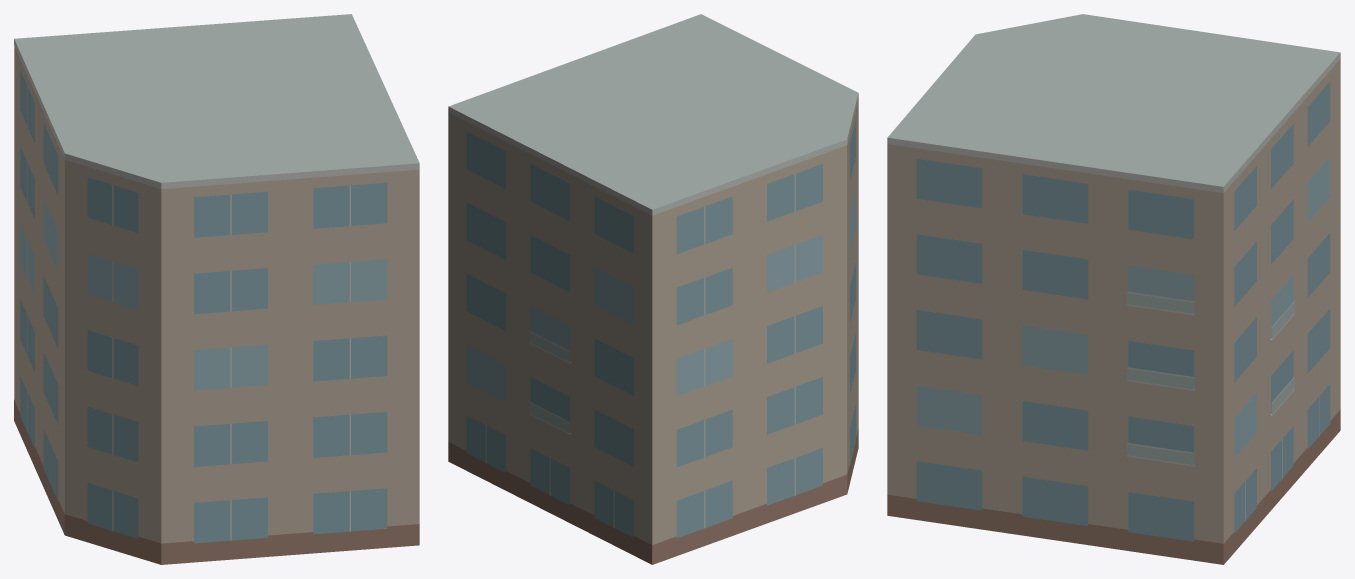
File: survey-upis-32528064.glb
3 renders of one model, left to right at view 1: azimuth 30°, elevation 25°; view 2: azimuth 150°, elevation 25°; view 3: azimuth 270°, elevation 25°, orthographic. The views are drawn at different scales.
Parts seen in each view (by area): view 1: survey-upis-32528064.tmp; view 2: survey-upis-32528064.tmp; view 3: survey-upis-32528064.tmp.
Part boxes in pixels (left/top/right/bottom): survey-upis-32528064.tmp: left=14, top=14, right=419, bottom=564; survey-upis-32528064.tmp: left=448, top=14, right=858, bottom=564; survey-upis-32528064.tmp: left=887, top=14, right=1340, bottom=564.
Size of the model in its own units: 14.43 by 14.7 by 15.98.
